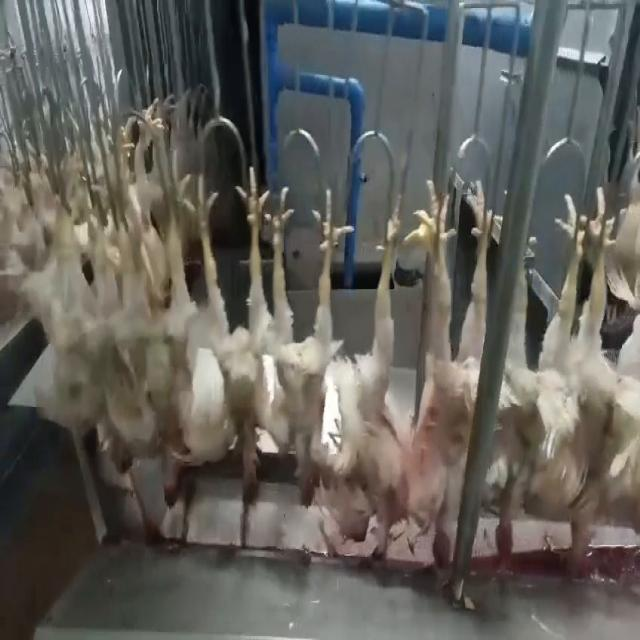chicken: (390, 177, 500, 574), (487, 190, 592, 588), (302, 178, 410, 562), (562, 179, 638, 570), (227, 170, 300, 506), (156, 168, 231, 476), (86, 161, 149, 469)
